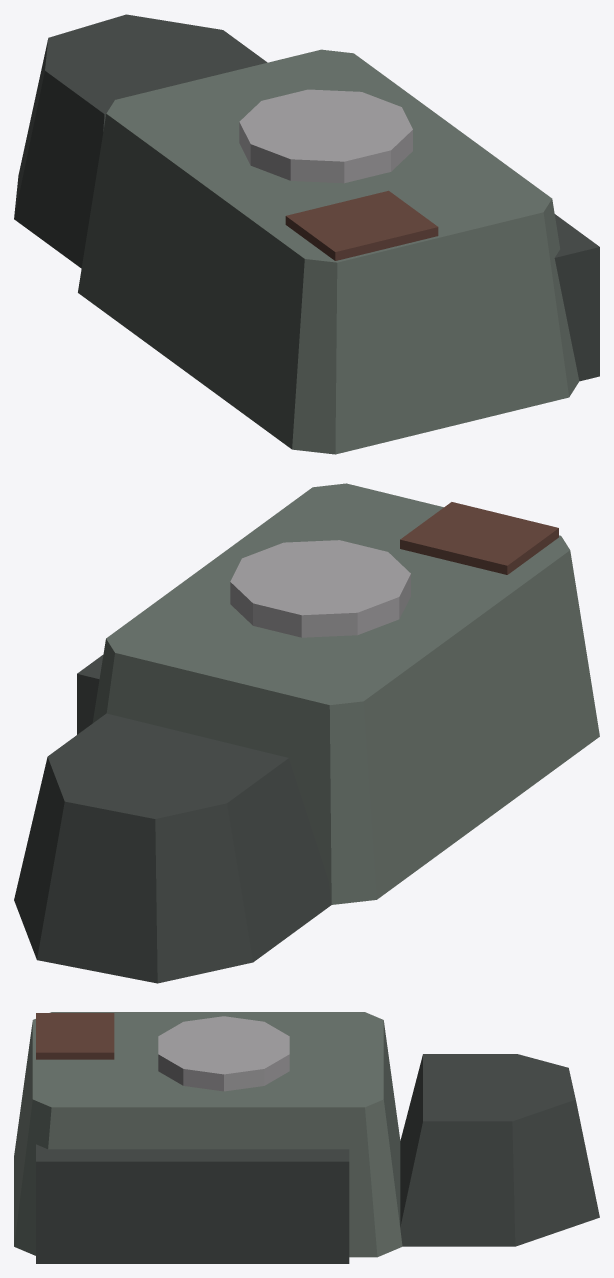
File: warwalker_claw_b6.obj
3 renders of one model, top to bottom at view 1: azimuth 30°, elevation 25°; view 2: azimuth 150°, elevation 25°; view 3: azimuth 270°, elevation 25°, orthographic. The views are drawn at different scales.
Visible parts, largest first — view 1: warwalker_claw_b6_0, warwalker_claw_b6_3, warwalker_claw_b6_2, warwalker_claw_b6_4, warwalker_claw_b6_1; view 2: warwalker_claw_b6_0, warwalker_claw_b6_3, warwalker_claw_b6_2, warwalker_claw_b6_4, warwalker_claw_b6_1; view 3: warwalker_claw_b6_0, warwalker_claw_b6_1, warwalker_claw_b6_3, warwalker_claw_b6_2, warwalker_claw_b6_4.
Boxes of the visible parts, x1=… form: warwalker_claw_b6_0: x1=78, y1=49, x2=579, y2=454; warwalker_claw_b6_3: x1=14, y1=14, x2=267, y2=268; warwalker_claw_b6_2: x1=239, y1=89, x2=412, y2=183; warwalker_claw_b6_4: x1=285, y1=190, x2=438, y2=260; warwalker_claw_b6_1: x1=554, y1=214, x2=599, y2=381; warwalker_claw_b6_0: x1=92, y1=483, x2=599, y2=904; warwalker_claw_b6_3: x1=14, y1=713, x2=331, y2=983; warwalker_claw_b6_2: x1=230, y1=540, x2=410, y2=637; warwalker_claw_b6_4: x1=400, y1=502, x2=558, y2=574; warwalker_claw_b6_1: x1=77, y1=655, x2=103, y2=734; warwalker_claw_b6_0: x1=14, y1=1012, x2=402, y2=1257; warwalker_claw_b6_1: x1=36, y1=1144, x2=349, y2=1263; warwalker_claw_b6_3: x1=400, y1=1054, x2=599, y2=1246; warwalker_claw_b6_2: x1=158, y1=1016, x2=289, y2=1091; warwalker_claw_b6_4: x1=36, y1=1013, x2=114, y2=1059.
Size of the model in its own units: 0.89 by 0.56 by 1.87.
